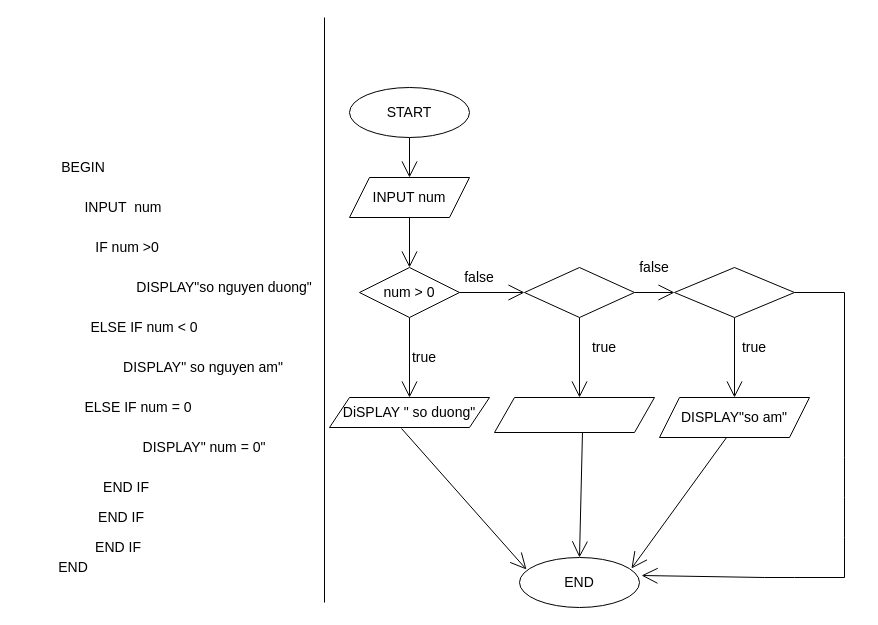
The diagram is 878 pixels wide and 625 high, and some of its shapes have lost their labels. Each missing label, with the box of its shape:
DISPLAY"num = 0": (494, 396, 654, 432)
num < 0: (674, 266, 794, 318)
num = 0: (524, 266, 634, 318)
